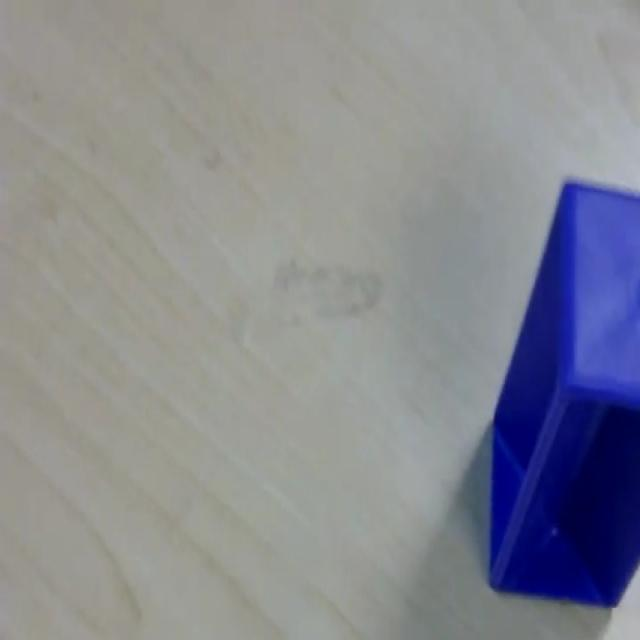blue_block: (486, 175, 639, 608)
